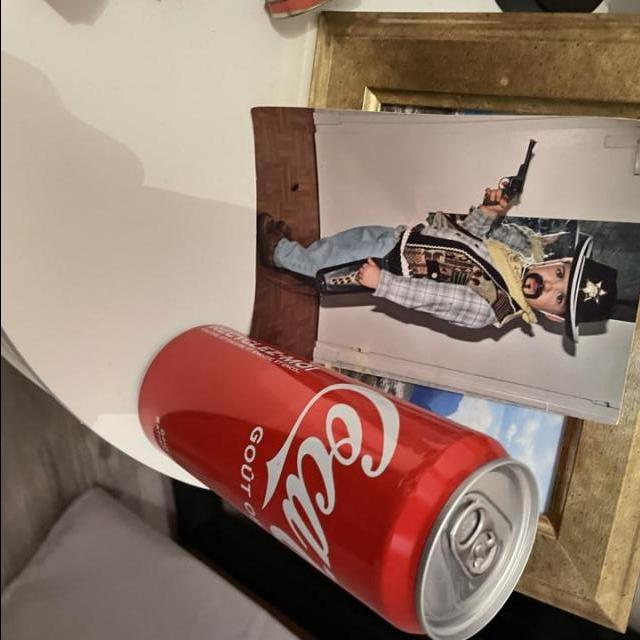can: (103, 308, 582, 640)
